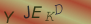D: (54, 3, 64, 15)
E: (32, 5, 43, 19)
J: (23, 5, 31, 19)
K: (45, 11, 55, 22)
Y: (2, 10, 15, 24)
